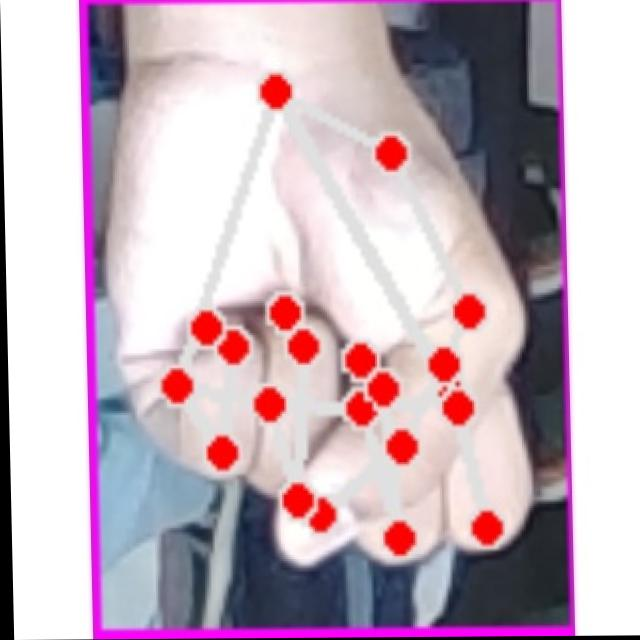S: (102, 50, 558, 594)
